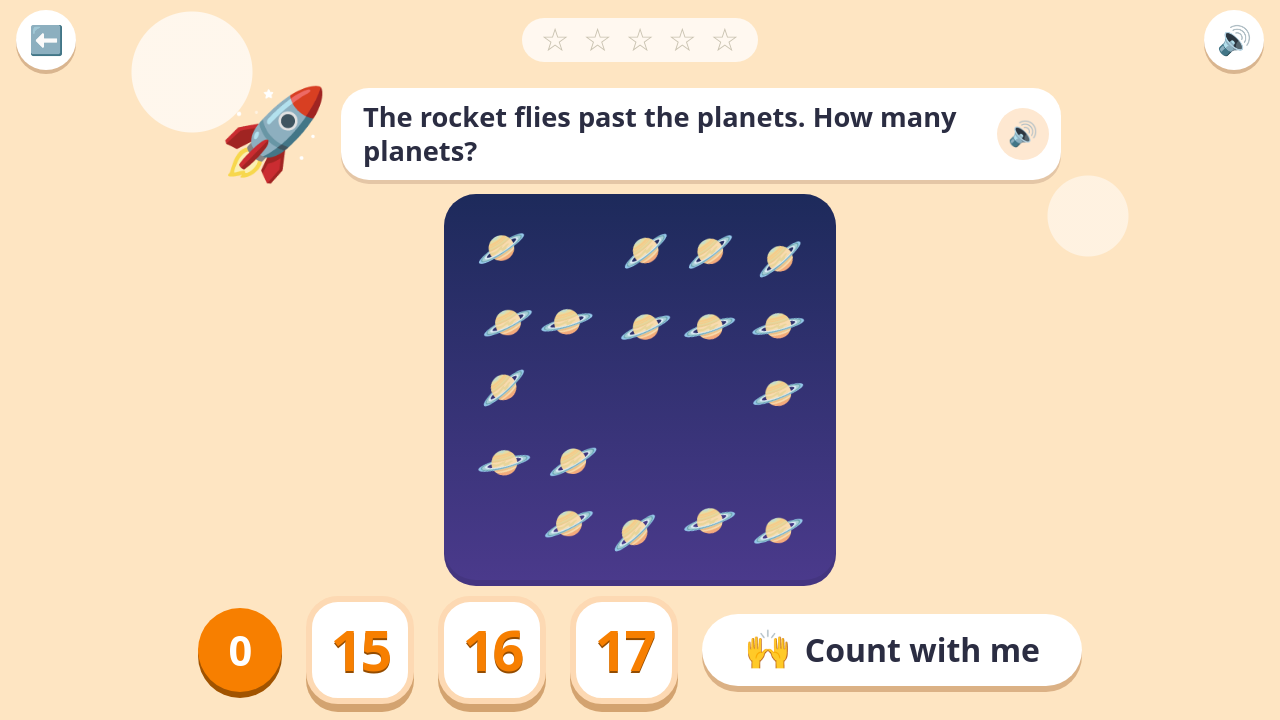
Test: CountingGame › counts together, one item at a time, when asked for help
Step 1. Click the 1st button "🪐" → (503, 253), box [469,219,537,287]
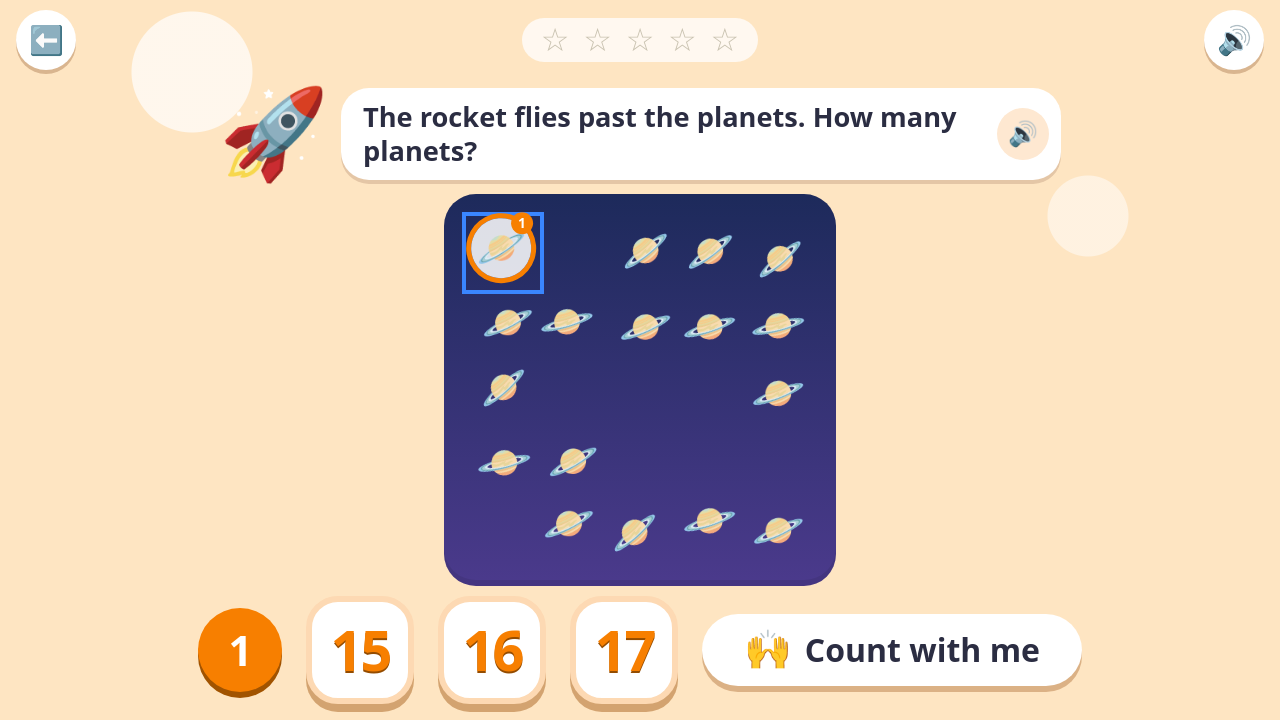
Step 2. Click the button "🙌 Count with me" → (892, 650), box [702,614,1082,686]
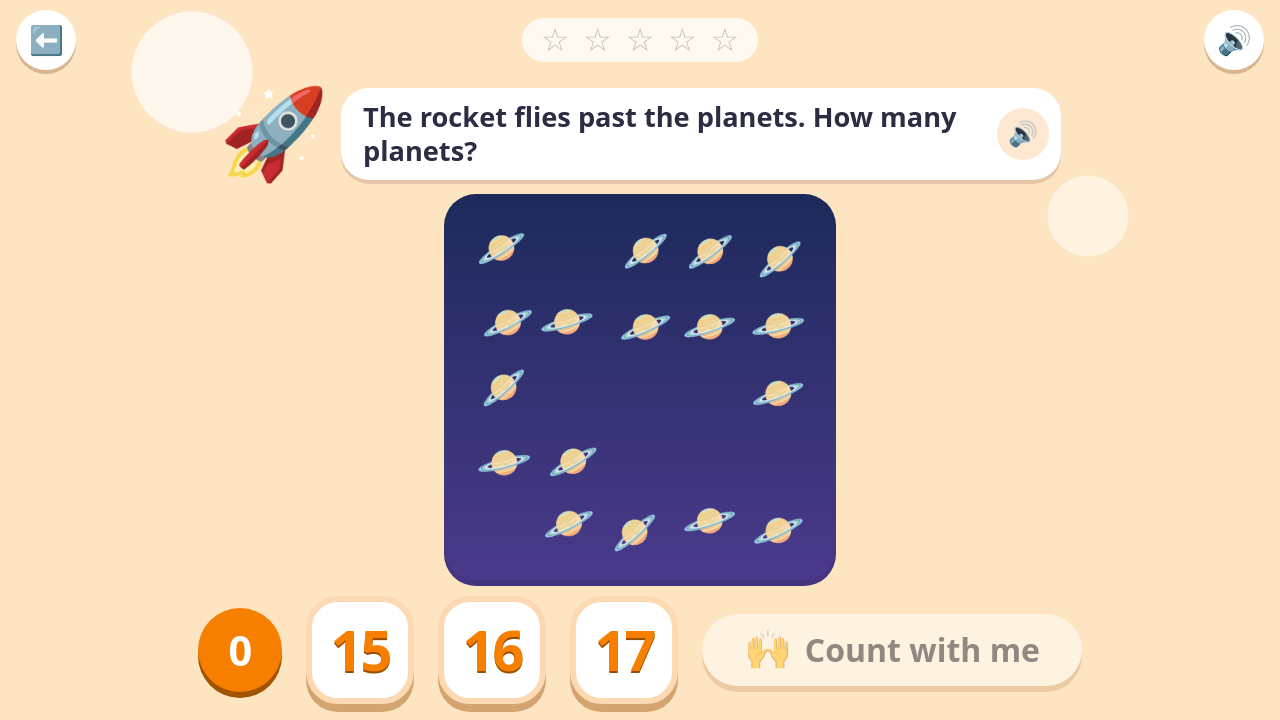
Now the button "🙌 Count with me" is disabled, box [702,614,1082,686]
# Taps are ignored while the game is counting.
Step 3. Click the 1st button "🪐" → (503, 253), box [469,219,537,287]
Wait 19800 ms
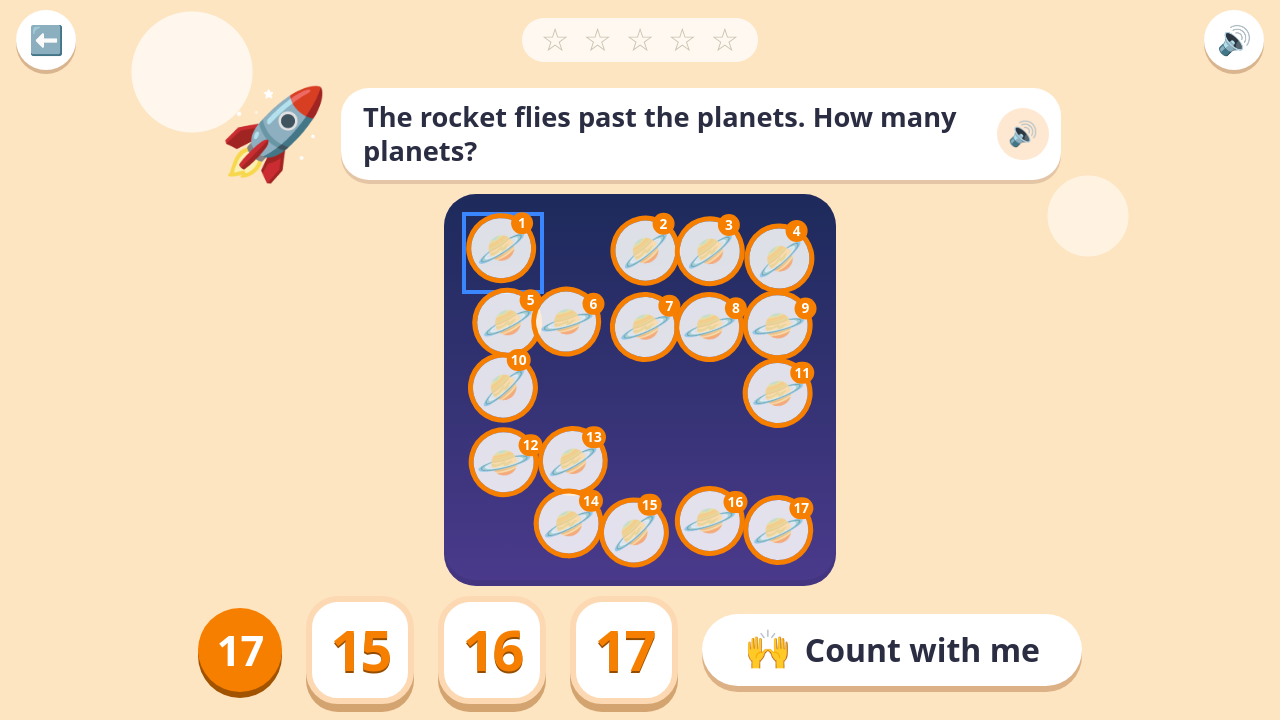
Now the button "🙌 Count with me" is enabled, box [702,614,1082,686]
